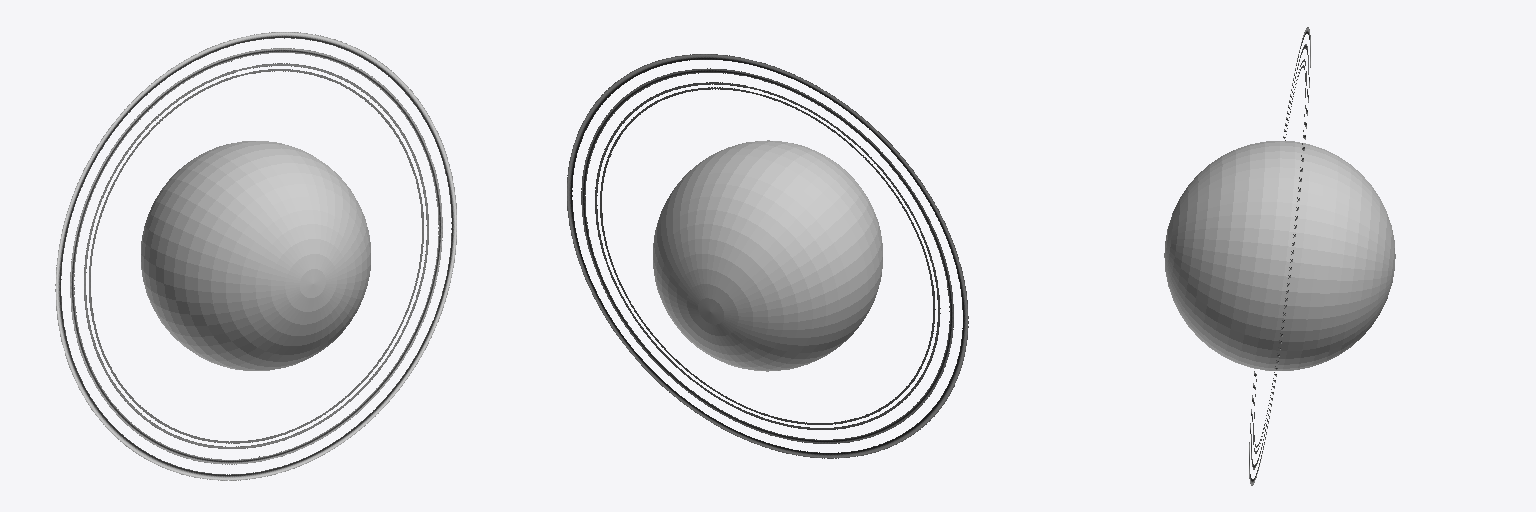
3 views of the same model, side by side, from view 1: azimuth 30°, elevation 25°; view 2: azimuth 150°, elevation 25°; view 3: azimuth 270°, elevation 25° (orthographic).
Parts seen in each view (by area): view 1: Uranus_ID142, group_2_ID129; view 2: Uranus_ID142, group_2_ID129; view 3: Uranus_ID142, group_2_ID129.
Boxes of the visible parts, x1,y1,x2,y2 form: Uranus_ID142: [141, 141, 370, 370]; group_2_ID129: [55, 32, 456, 480]; Uranus_ID142: [653, 140, 882, 371]; group_2_ID129: [567, 54, 968, 458]; Uranus_ID142: [1164, 141, 1395, 370]; group_2_ID129: [1249, 27, 1310, 485].
Bounding box in the file's own units: 10.4 × 10.31 × 5.11.
Materials: 2 (1 with a texture image).